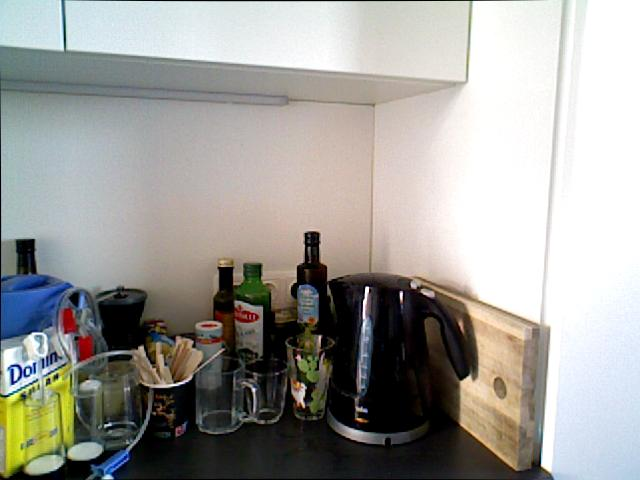bench: (8, 235, 45, 362), (233, 262, 271, 368), (295, 230, 329, 334), (212, 257, 235, 352)
handbag: (0, 274, 75, 402), (134, 358, 200, 447), (78, 359, 143, 445), (194, 355, 259, 435), (284, 334, 335, 421), (23, 387, 66, 477), (66, 380, 107, 463), (241, 358, 288, 425)
hot dog: (538, 0, 640, 480)
